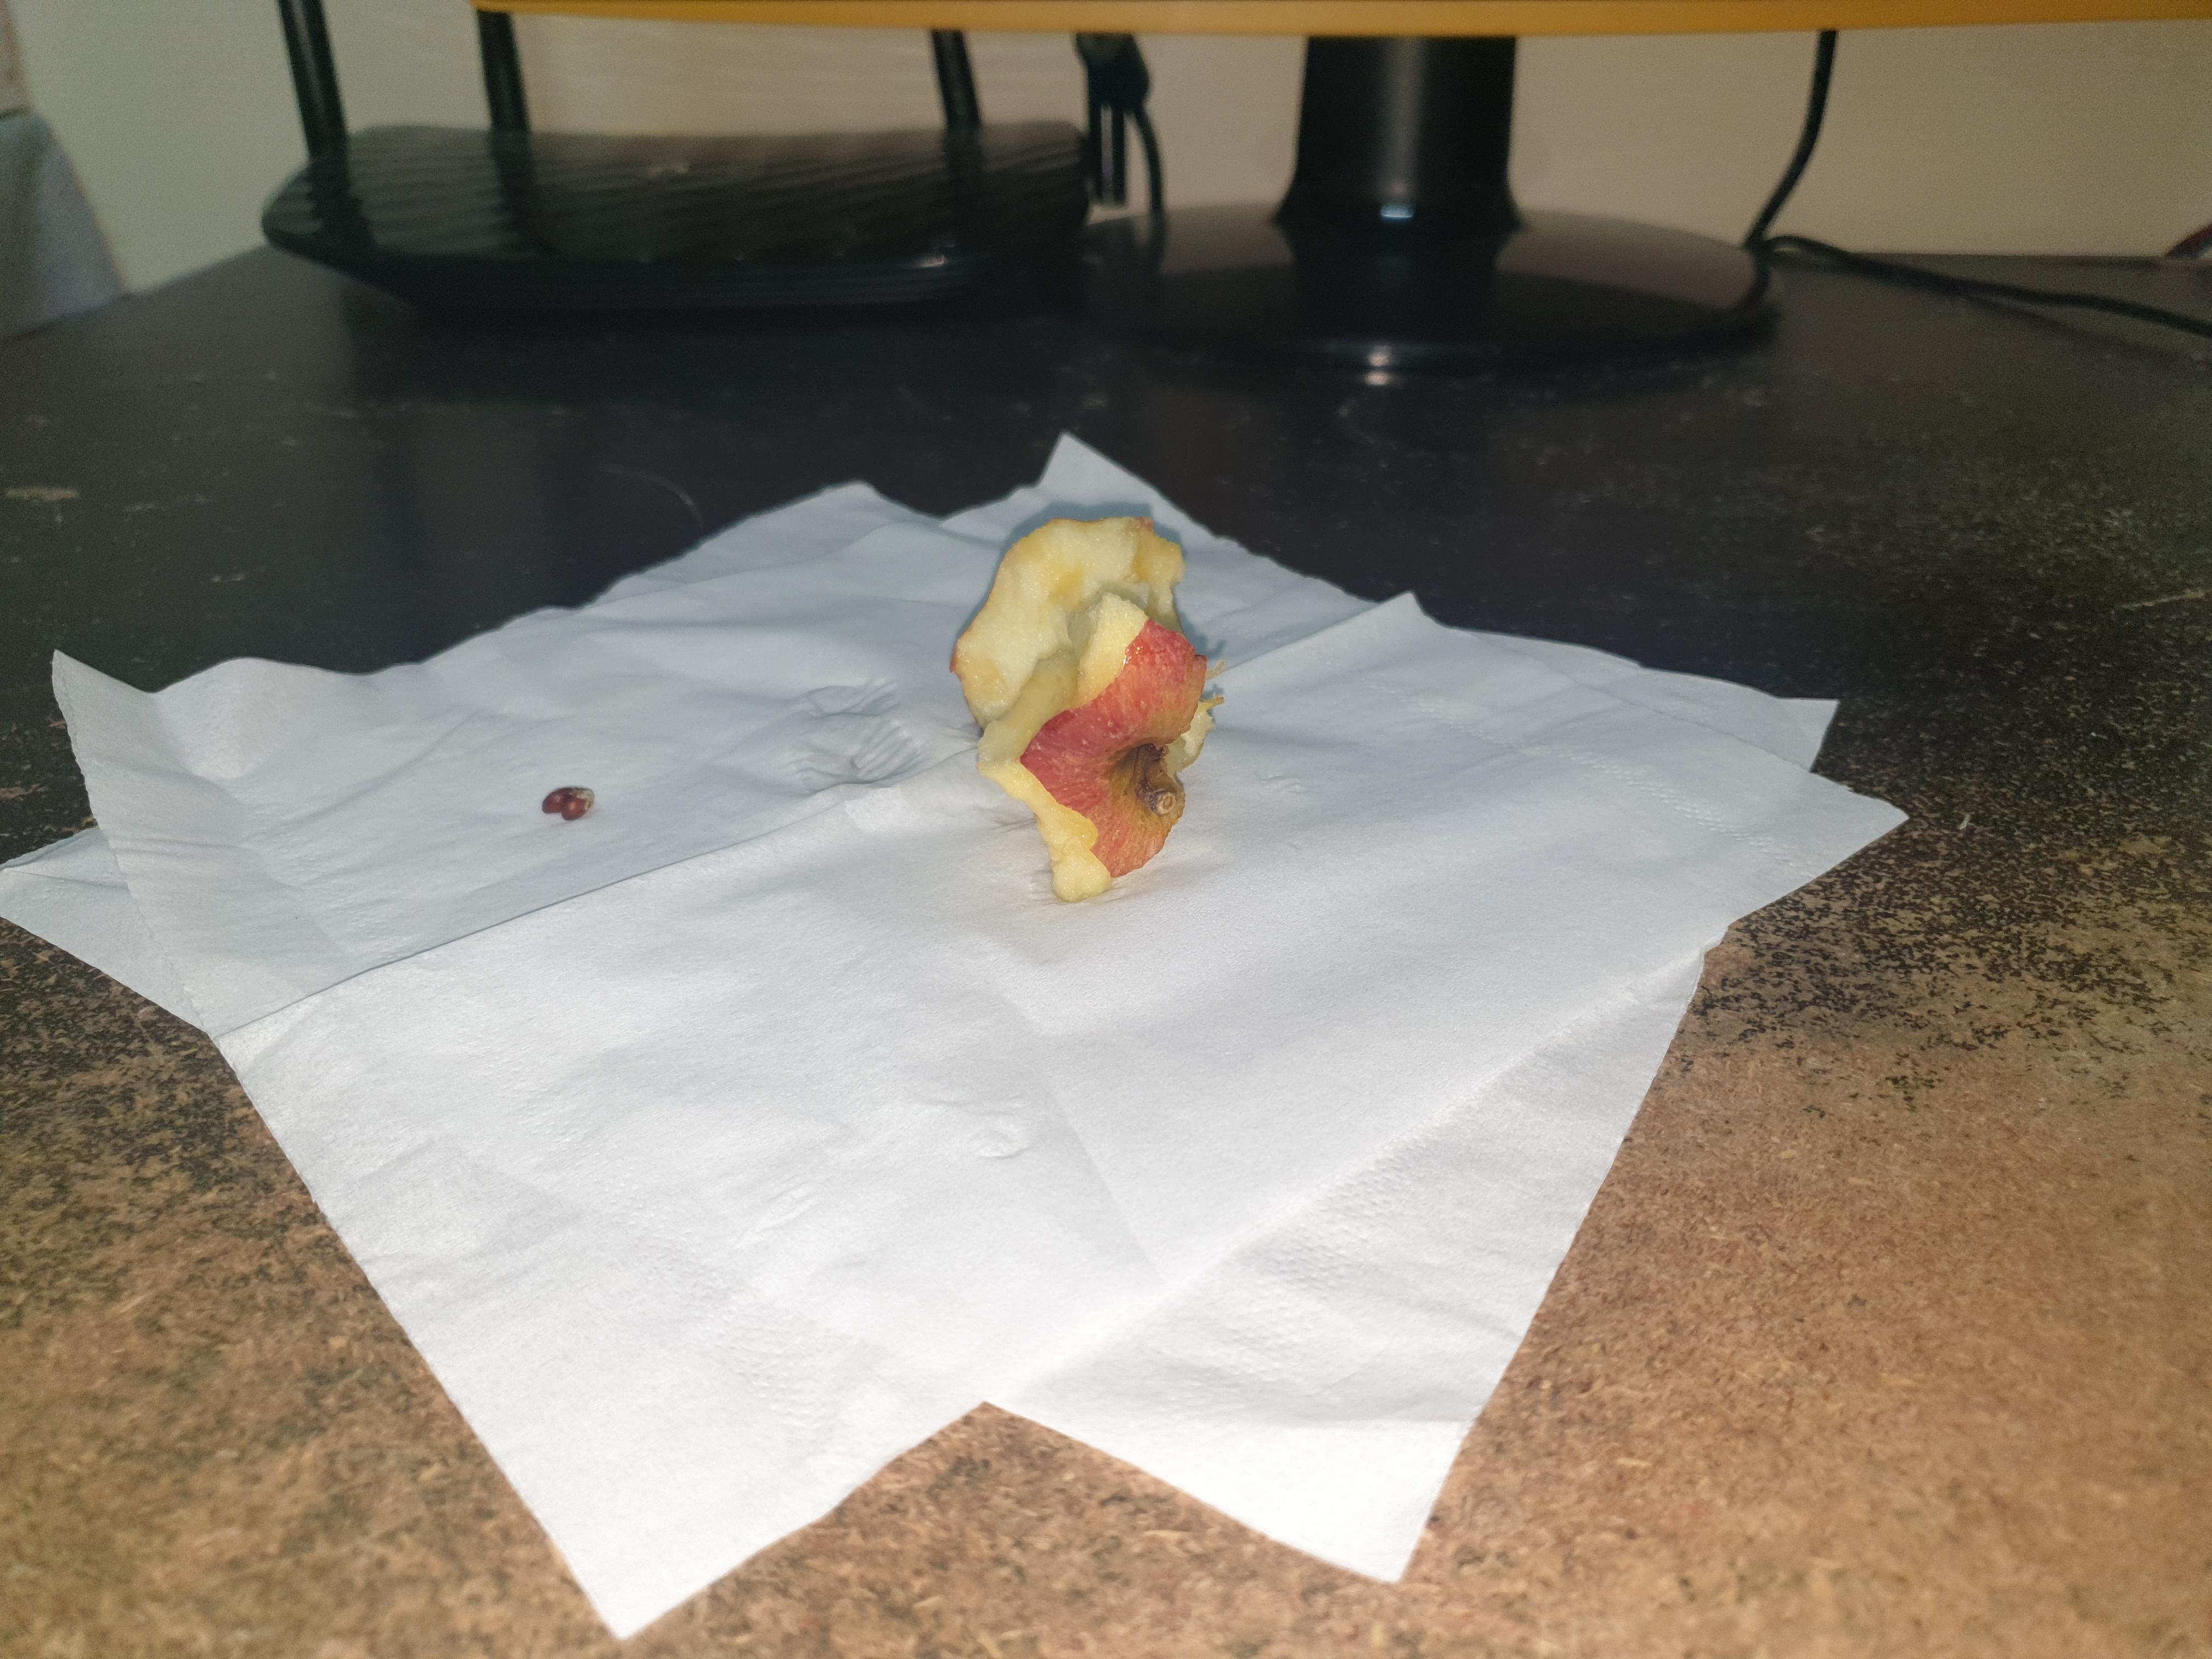Apple: (921, 477, 1285, 917)
